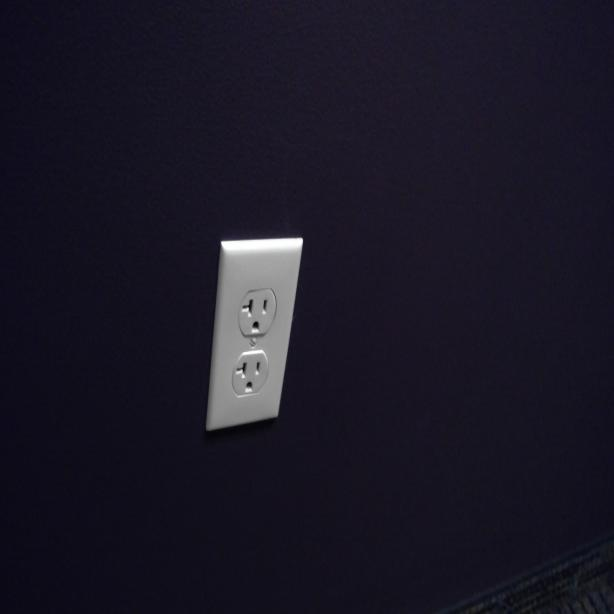typeb: (232, 354, 267, 399), (243, 289, 273, 336)
